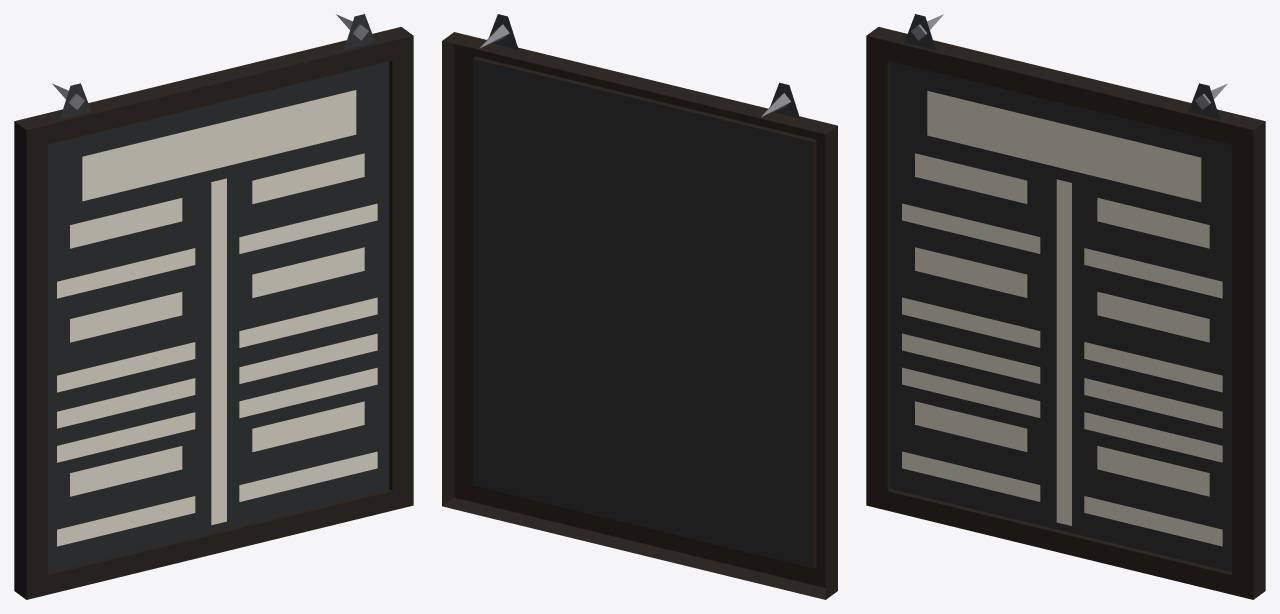
File: Paint_Notice_2.fbx
3 views of the same model, side by side, from view 1: azimuth 30°, elevation 25°; view 2: azimuth 150°, elevation 25°; view 3: azimuth 330°, elevation 25° (orthographic).
Parts seen in each view (by area): view 1: pPlane460; view 2: pPlane460; view 3: pPlane460.
Boxes of the visible parts, x1,y1,x2,y2 form: pPlane460: (14,14,413,599); pPlane460: (442,14,837,599); pPlane460: (866,14,1265,599).
Size of the model in its own units: 185 by 229 by 21.94.
